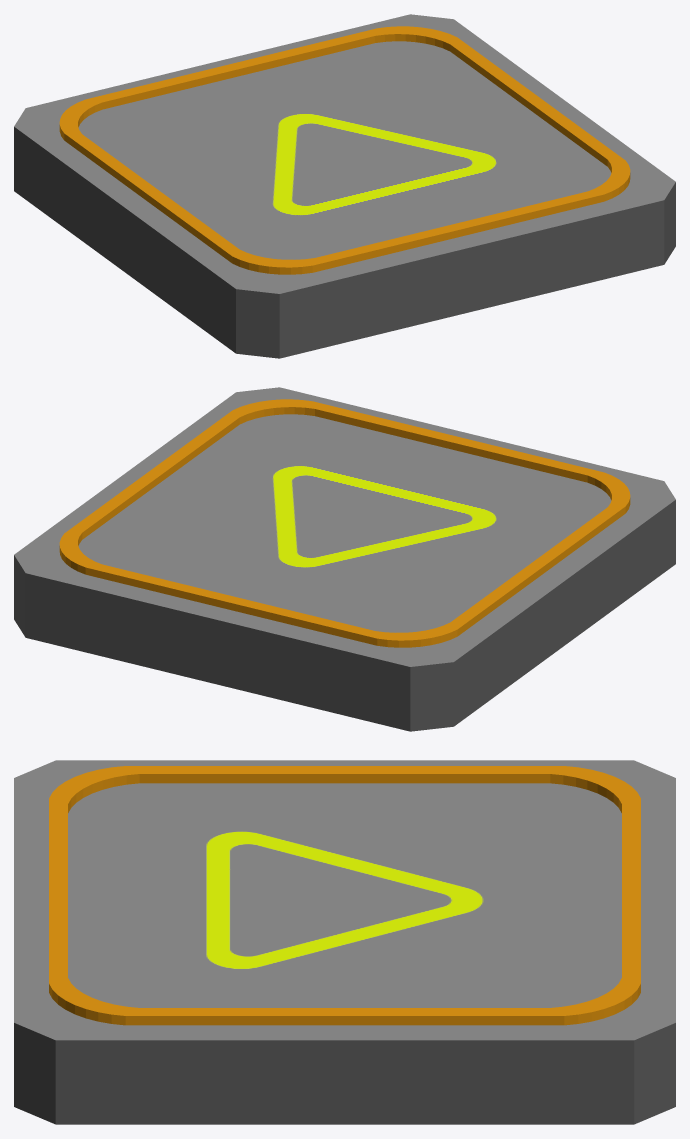
Rendered from AttackRangeNew.fbx.
3 views of the same model, one above another, from view 1: azimuth 30°, elevation 25°; view 2: azimuth 150°, elevation 25°; view 3: azimuth 270°, elevation 25° (orthographic). The views are drawn at different scales.
Parts seen in each view (by area): view 1: BaseStation; view 2: BaseStation; view 3: BaseStation.
Boxes of the visible parts, x1=… form: BaseStation: x1=14, y1=14, x2=675, y2=358; BaseStation: x1=14, y1=387, x2=675, y2=731; BaseStation: x1=14, y1=760, x2=675, y2=1124.
Size of the model in its own units: 200 by 31.21 by 200.
